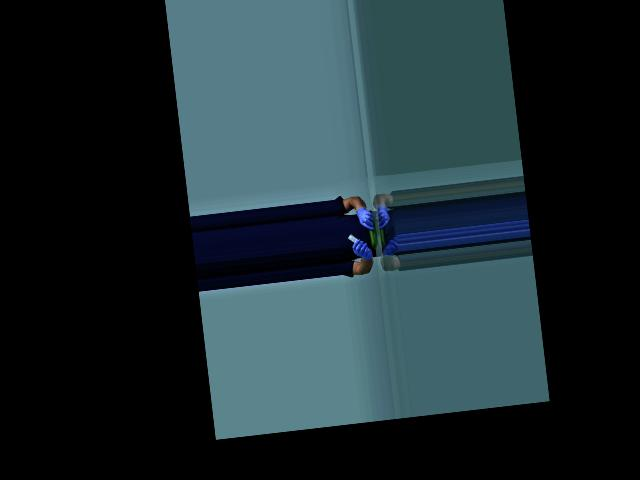cucumber: (368, 221, 378, 249)
